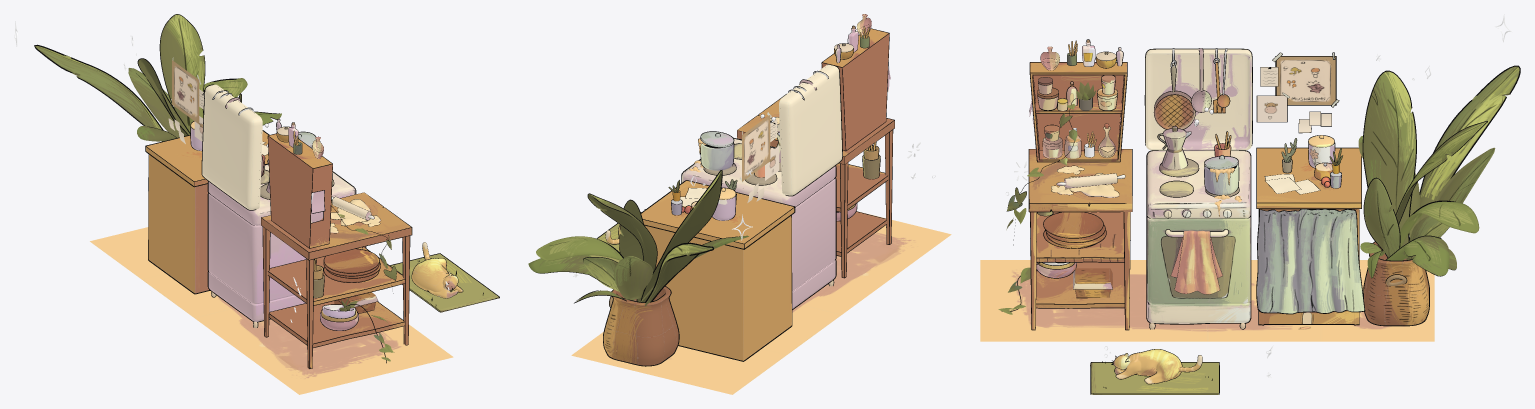
Rendered from room.glb.
The picture shows the model from 3 angles, left to right: view 1: azimuth 30°, elevation 25°; view 2: azimuth 150°, elevation 25°; view 3: azimuth 270°, elevation 25°; orthographic projection. The views are drawn at different scales.
Parts seen in each view (by area): view 1: Plane.002_212, Cube.064_8, Cube.063_7, Cube.067_10, Cube.076_11, Cube.073_39, Cube.065_9, Plane.006_167, Plane.005_166, Cube.004_17, Cube.077_15, Cube.079_22 (+10 smaller); view 2: Cube.064_8, Plane.002_212, Cube.063_7, Cube.076_11, Cube.078_12, Cube.073_39, Cube.067_10, Plane.004_165, Plane.007_168, Plane.006_167, Cube.079_22, Plane.014_175 (+14 smaller); view 3: Plane.002_212, Cube.063_7, Cube.112_14, Cube.076_11, Cube.067_10, Cube.064_8, Plane.004_165, Cube.073_39, Cube.065_9, Cube.078_12, Plane.005_166, Cube.077_15 (+24 smaller).
Boxes of the visible parts, bbox=[...] form: Plane.002_212: bbox=[90, 227, 453, 394]; Cube.064_8: bbox=[145, 130, 269, 294]; Cube.063_7: bbox=[208, 164, 355, 321]; Cube.067_10: bbox=[263, 227, 409, 368]; Cube.076_11: bbox=[201, 84, 262, 210]; Cube.073_39: bbox=[268, 134, 332, 247]; Cube.065_9: bbox=[261, 192, 411, 259]; Plane.006_167: bbox=[159, 14, 205, 132]; Plane.005_166: bbox=[34, 44, 163, 141]; Cube.004_17: bbox=[262, 227, 410, 368]; Cube.077_15: bbox=[390, 254, 498, 312]; Cube.079_22: bbox=[172, 60, 199, 123]; Cube.064_8: bbox=[641, 180, 795, 361]; Plane.002_212: bbox=[571, 211, 951, 394]; Cube.063_7: bbox=[682, 138, 835, 308]; Cube.076_11: bbox=[779, 64, 842, 196]; Cube.078_12: bbox=[603, 286, 679, 366]; Cube.073_39: bbox=[822, 29, 889, 150]; Cube.067_10: bbox=[836, 130, 892, 277]; Plane.004_165: bbox=[640, 170, 722, 302]; Plane.007_168: bbox=[536, 236, 642, 294]; Plane.006_167: bbox=[587, 193, 657, 271]; Cube.079_22: bbox=[742, 115, 770, 181]; Plane.014_175: bbox=[613, 256, 652, 299]; Plane.002_212: bbox=[980, 260, 1434, 341]; Cube.063_7: bbox=[1147, 151, 1250, 323]; Cube.112_14: bbox=[1256, 209, 1365, 314]; Cube.076_11: bbox=[1144, 48, 1252, 150]; Cube.067_10: bbox=[1030, 212, 1130, 329]; Cube.064_8: bbox=[1256, 147, 1361, 325]; Plane.004_165: bbox=[1362, 70, 1416, 246]; Cube.073_39: bbox=[1030, 62, 1126, 161]; Cube.065_9: bbox=[1029, 149, 1132, 211]; Cube.078_12: bbox=[1363, 241, 1429, 326]; Plane.005_166: bbox=[1409, 65, 1520, 257]; Cube.077_15: bbox=[1090, 362, 1218, 394].
Bounding box in the file's own units: 4.97 × 3.6 × 7.18.
Materials: 11 (6 with a texture image).
